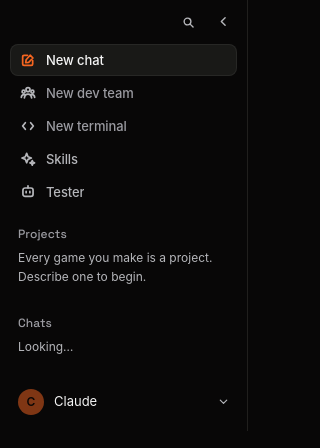
Scenario: New terminal › says why it cannot, instead of going quiet, with no project open
The width and height of the screenshot is (320, 448).
Click the button "New terminal" at [124, 126], box [10, 110, 237, 142]
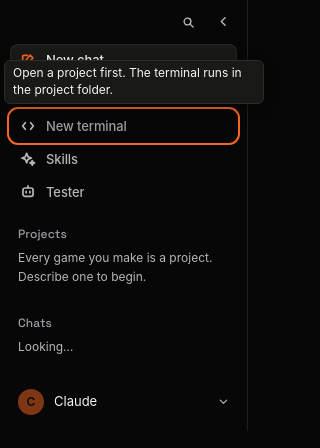
Now the tooltip shows "Open a project first", box [13, 65, 242, 97]
